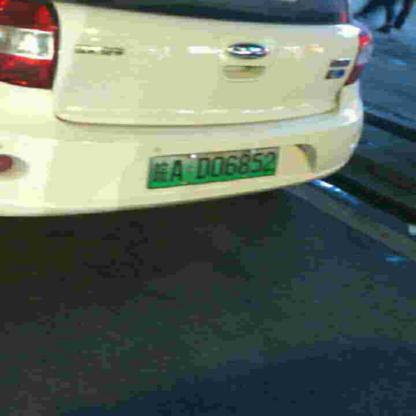lp: (148, 147, 278, 188)
